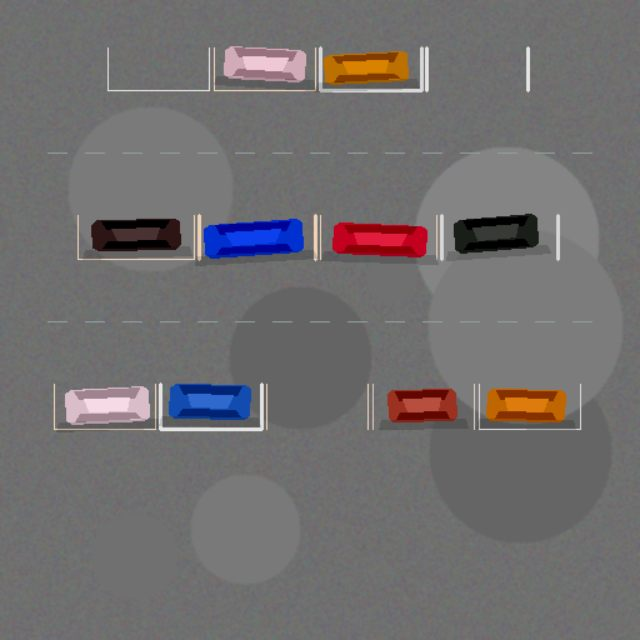space-empty: (266, 384, 367, 429), (107, 48, 209, 90), (426, 48, 527, 90)
space-occupied: (77, 215, 194, 259), (199, 215, 315, 259), (320, 215, 436, 259), (441, 215, 557, 259), (54, 384, 155, 429), (160, 384, 261, 429), (373, 384, 474, 429), (479, 384, 580, 429), (214, 48, 315, 90), (320, 48, 421, 90)
